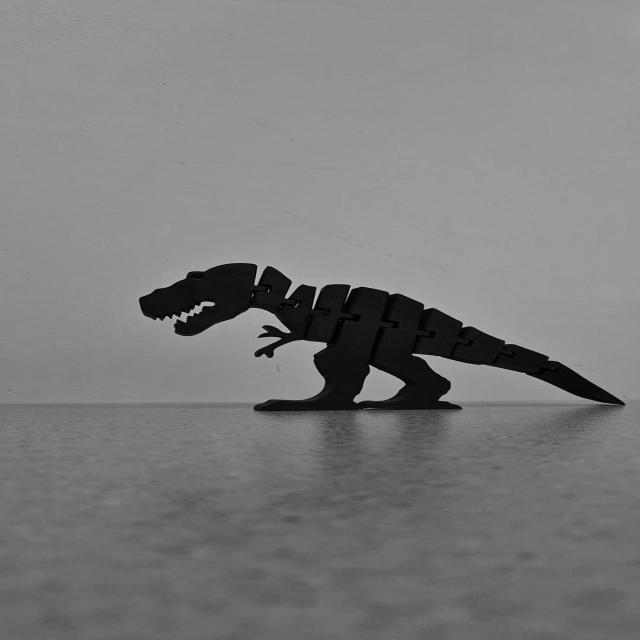dino: (138, 262, 628, 412)
